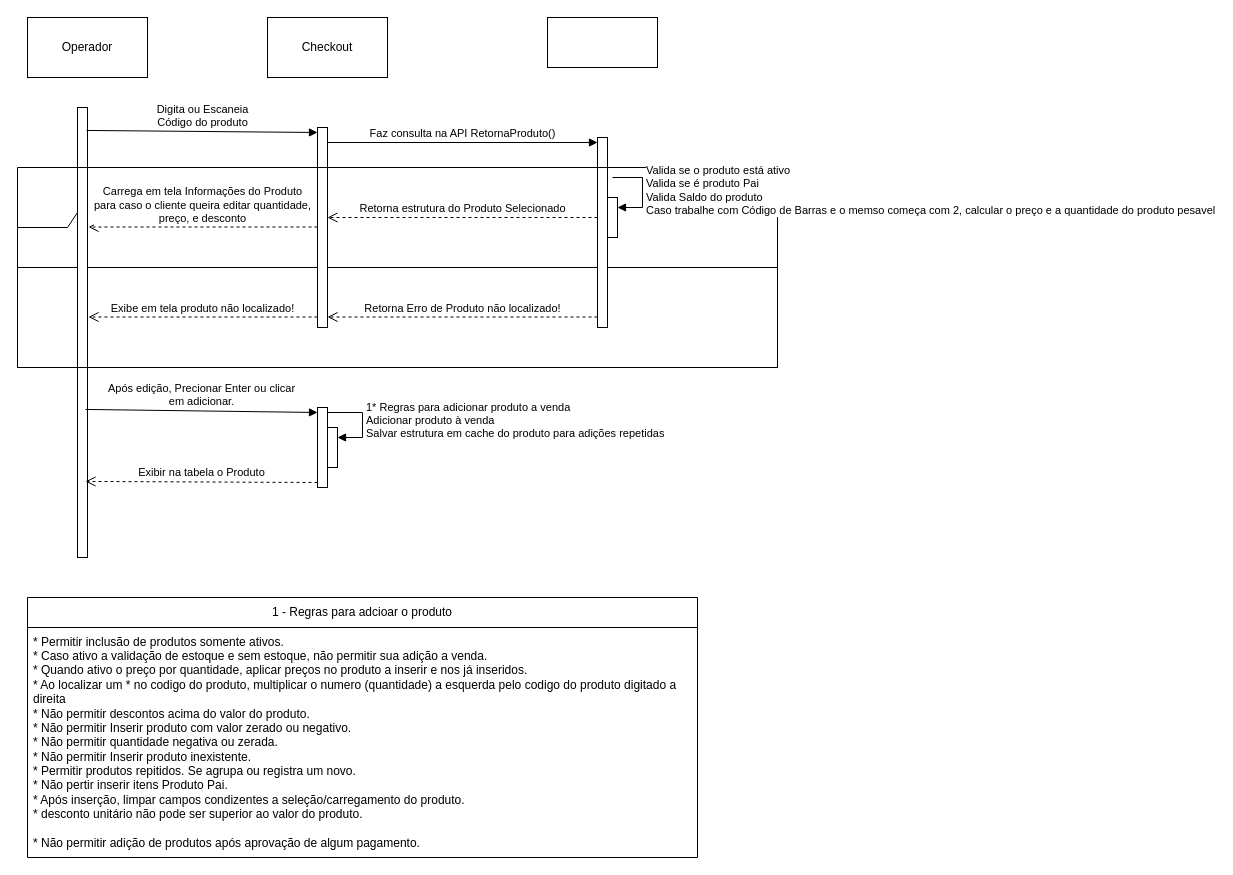
Image size: 1233x875. Some labels were removed from this diagram. Each missing label, with the centre of its shape:
"alt Produto localizado" goes at (397,267).
"Retaguarda" goes at (602,42).
